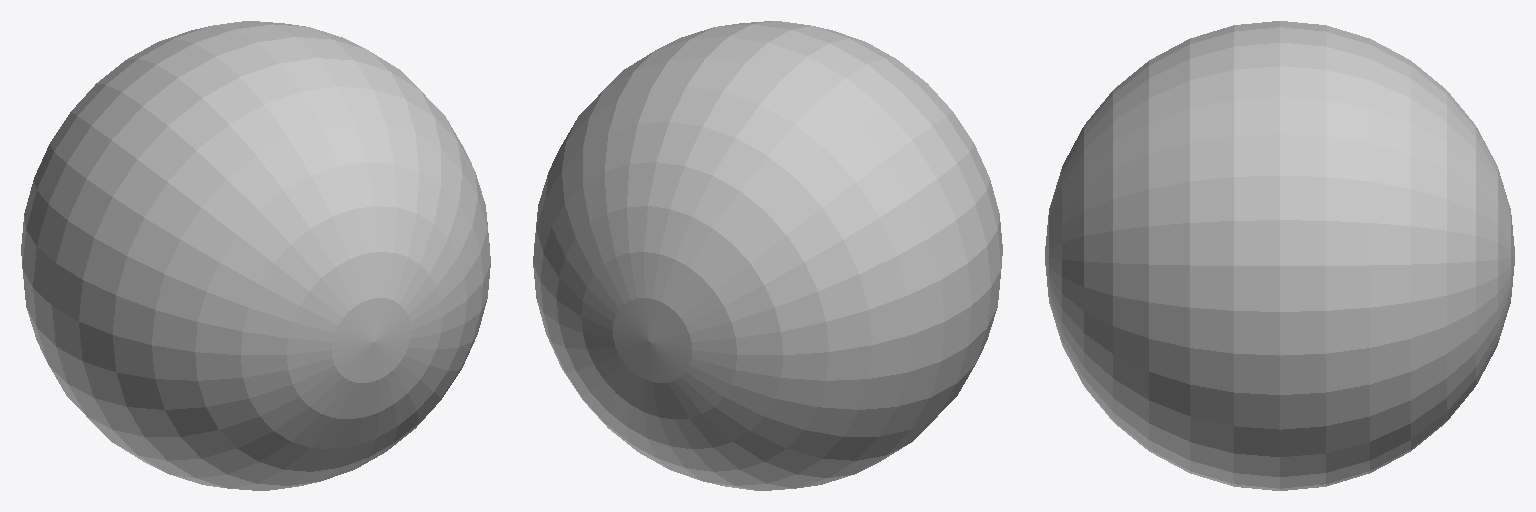
File: 20cmsphere.obj
The picture shows the model from 3 angles: view 1: azimuth 30°, elevation 25°; view 2: azimuth 150°, elevation 25°; view 3: azimuth 270°, elevation 25°; orthographic projection.
Parts seen in each view (by area): view 1: Sphere; view 2: Sphere; view 3: Sphere.
Part boxes in pixels (x1,y1,x2,y2): Sphere: (21,21,490,490); Sphere: (533,21,1002,490); Sphere: (1045,21,1514,490).
Bounding box in the file's own units: 0.4003 × 0.4003 × 0.4003.